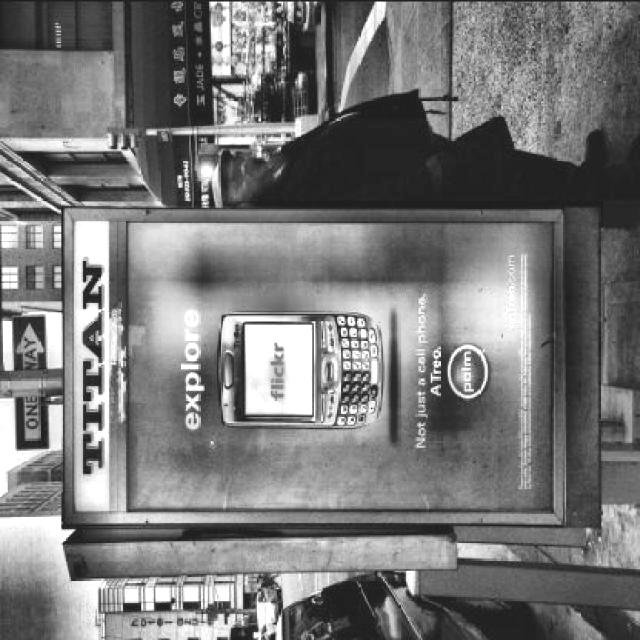fake: (206, 302, 391, 436)
